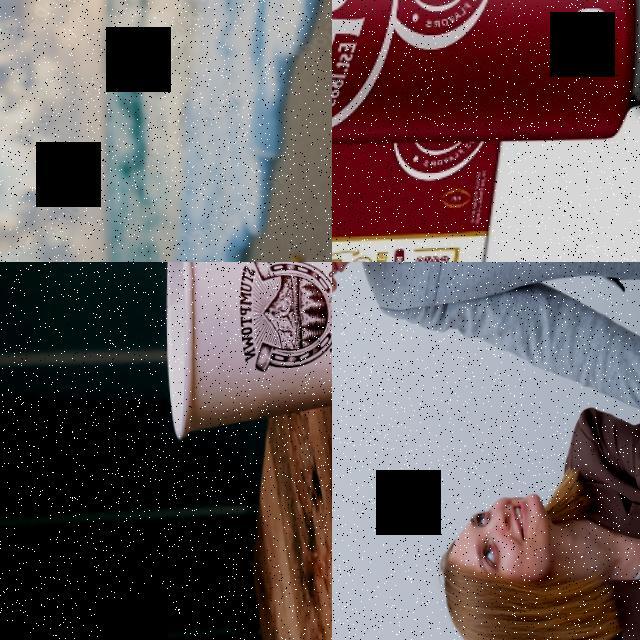can: (332, 0, 640, 148)
cup: (162, 262, 332, 440)
